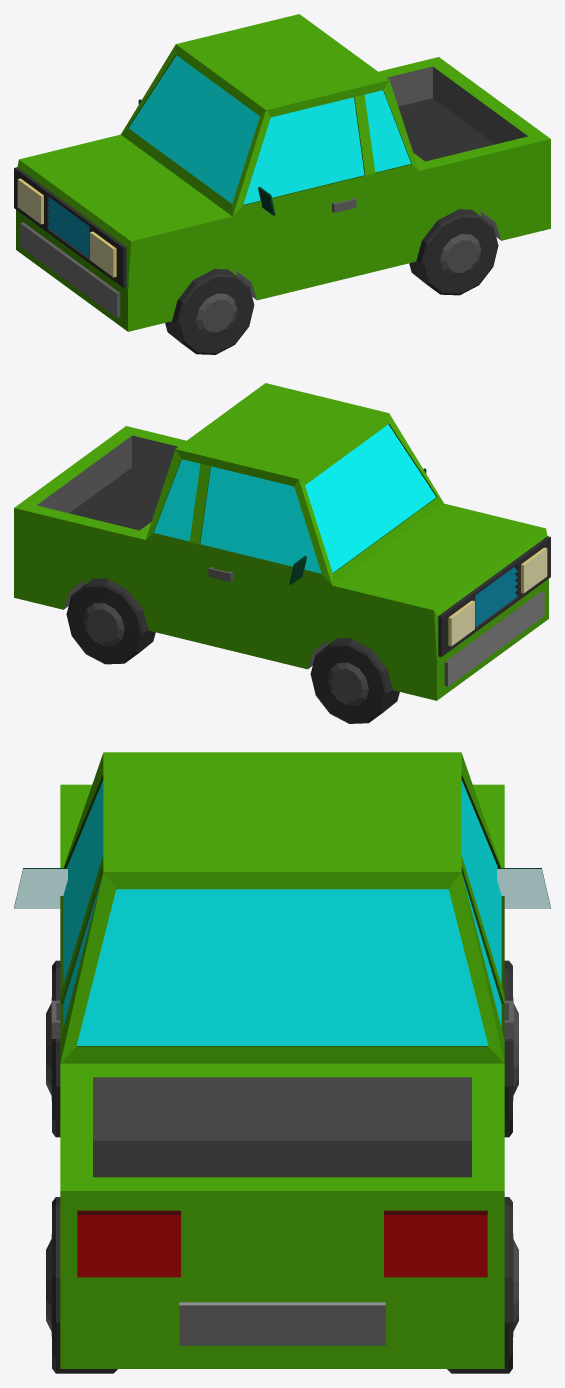
File: pickupCar.glb
The picture shows the model from 3 angles, top to bottom: view 1: azimuth 30°, elevation 25°; view 2: azimuth 150°, elevation 25°; view 3: azimuth 270°, elevation 25°; orthographic projection. The views are drawn at different scales.
Visible parts, largest first — view 1: Pickup; view 2: Pickup; view 3: Pickup.
Part boxes in pixels (box(x1,y1,x2,y2)): Pickup: box(14, 14, 550, 354); Pickup: box(14, 383, 550, 723); Pickup: box(14, 752, 550, 1373).
Size of the model in its own units: 3.35 by 1.63 by 1.81.
Materials: 1 (1 with a texture image).
